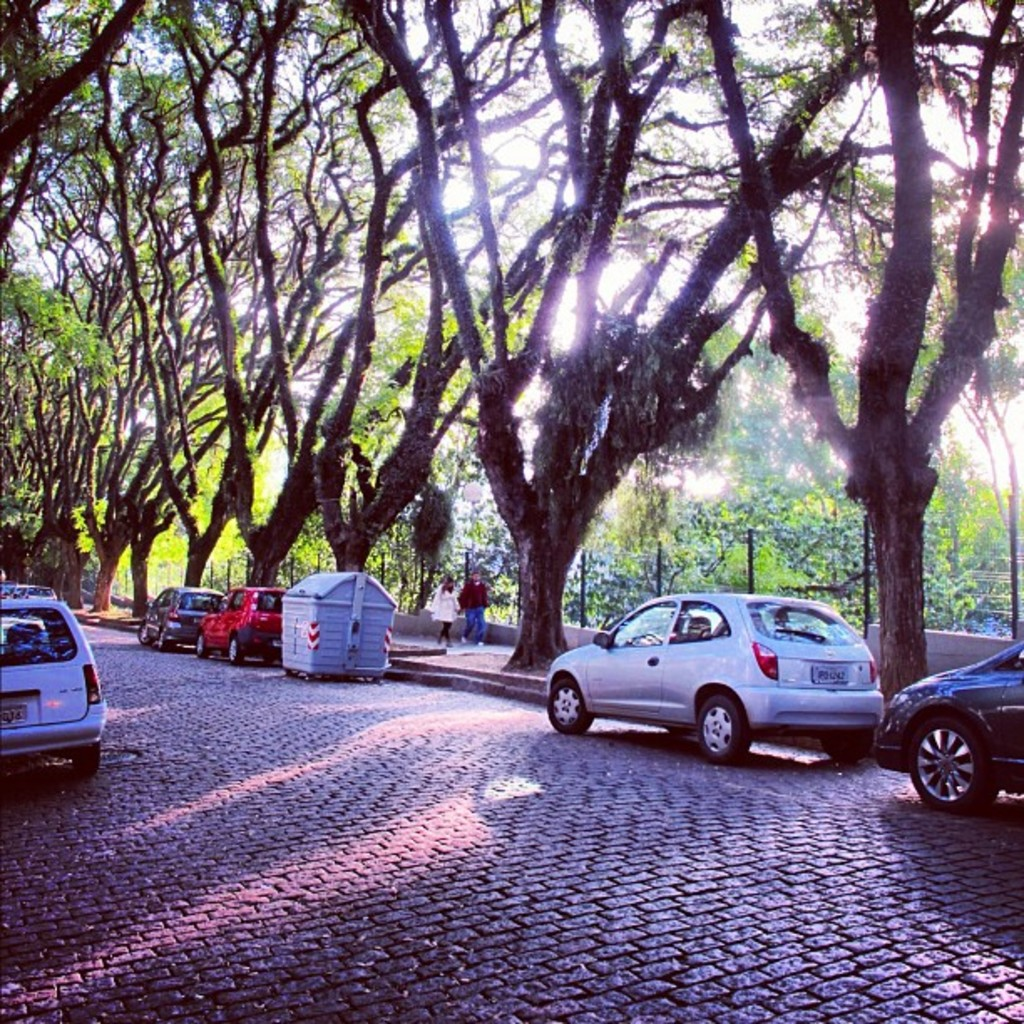Tree: (0, 0, 1022, 692), (687, 0, 1022, 729)
